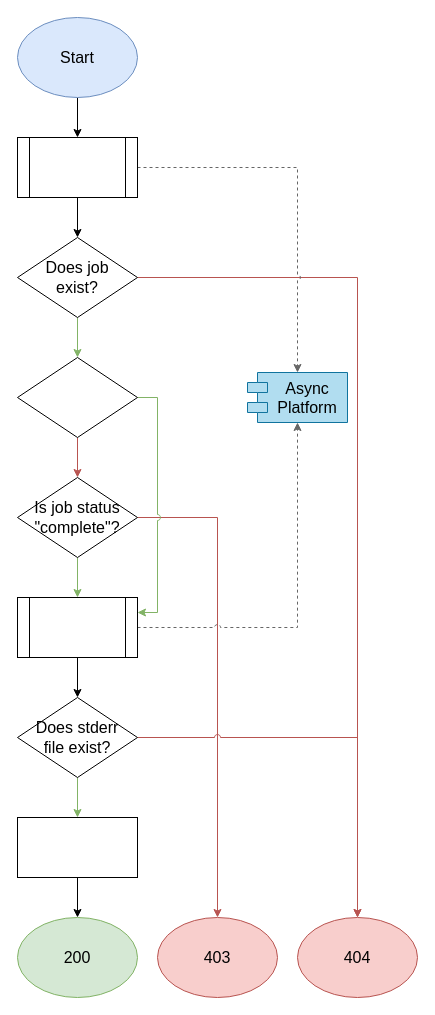
Some shapes in this 435 by 1015 pixel diagram are drawn without their labels. Here are the shapes that lost their labels. From the top down, the centre of each, then its label:
(x=77, y=167): Lookup target job in platform
(x=77, y=397): Is job status "failed"?
(x=77, y=627): Lookup job's stderr file in platform
(x=77, y=847): Open stream over stderr file
